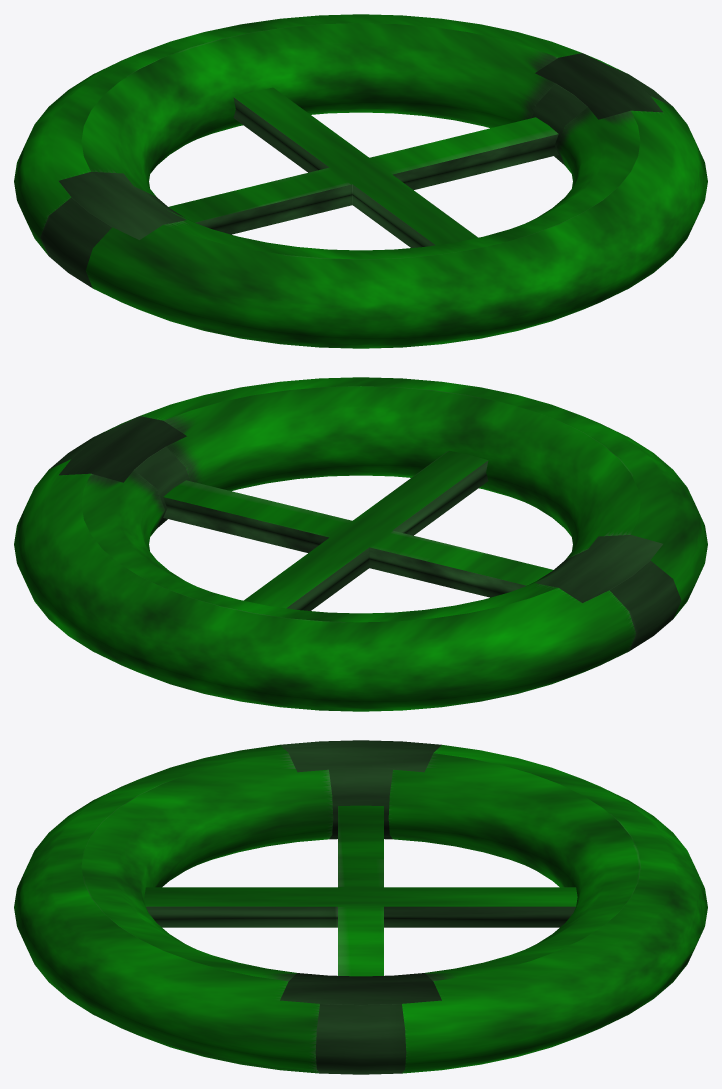
File: vrc_valve_a.dae
3 renders of one model, top to bottom at view 1: azimuth 30°, elevation 25°; view 2: azimuth 150°, elevation 25°; view 3: azimuth 270°, elevation 25°, orthographic.
Parts seen in each view (by area): view 1: Cube_001; view 2: Cube_001; view 3: Cube_001.
Boxes of the visible parts, left/top/right/bottom form: Cube_001: left=14, top=14, right=707, bottom=348; Cube_001: left=14, top=377, right=707, bottom=711; Cube_001: left=14, top=740, right=707, bottom=1074.
Bounding box in the file's own units: 0.3021 × 0.3021 × 0.0387.
